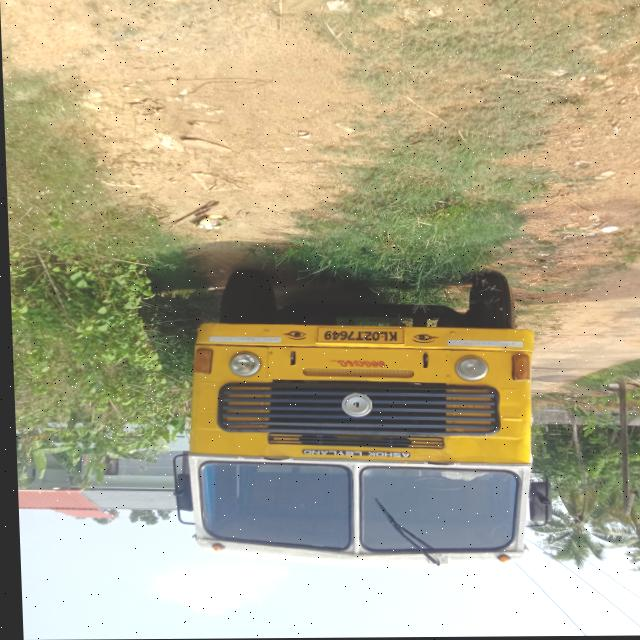plate: (312, 325, 402, 347)
